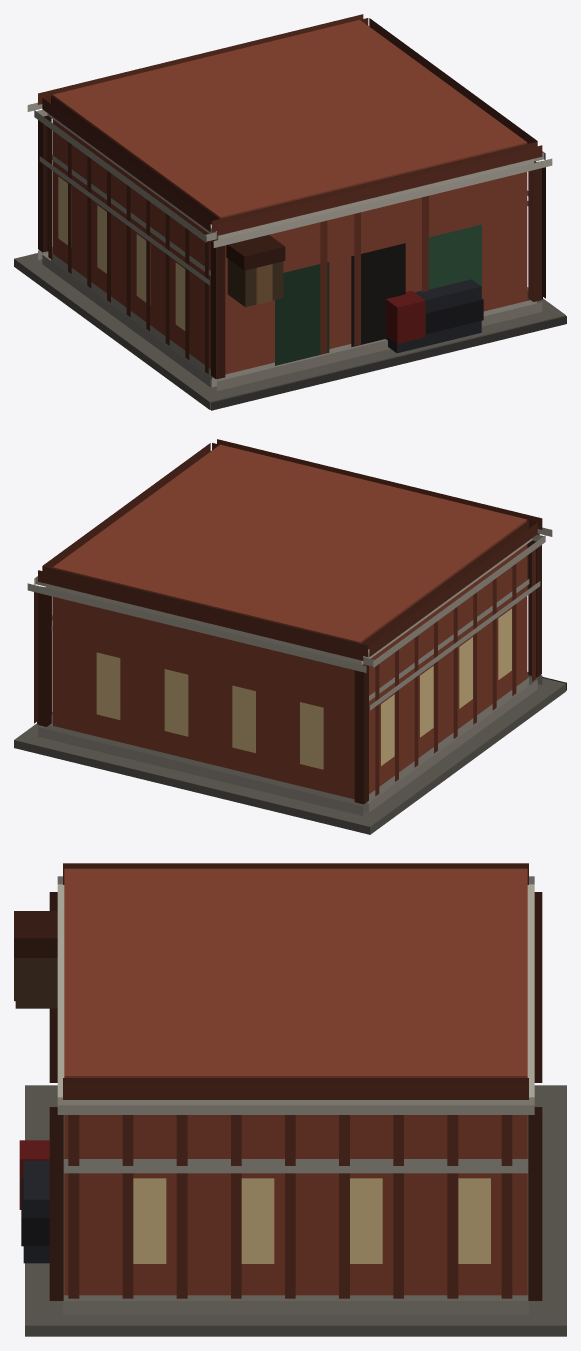
Rendered from MonsterTrainSil.fbx.
3 renders of one model, top to bottom at view 1: azimuth 30°, elevation 25°; view 2: azimuth 150°, elevation 25°; view 3: azimuth 270°, elevation 25°, orthographic. The views are drawn at different scales.
Visible parts, largest first — view 1: DP_S_All; view 2: DP_S_All; view 3: DP_S_All.
Part boxes in pixels (bbox=[...]): DP_S_All: bbox=[14, 14, 566, 410]; DP_S_All: bbox=[14, 439, 566, 834]; DP_S_All: bbox=[14, 863, 566, 1336].
Size of the model in its own units: 42.04 by 19.9 by 40.86.
